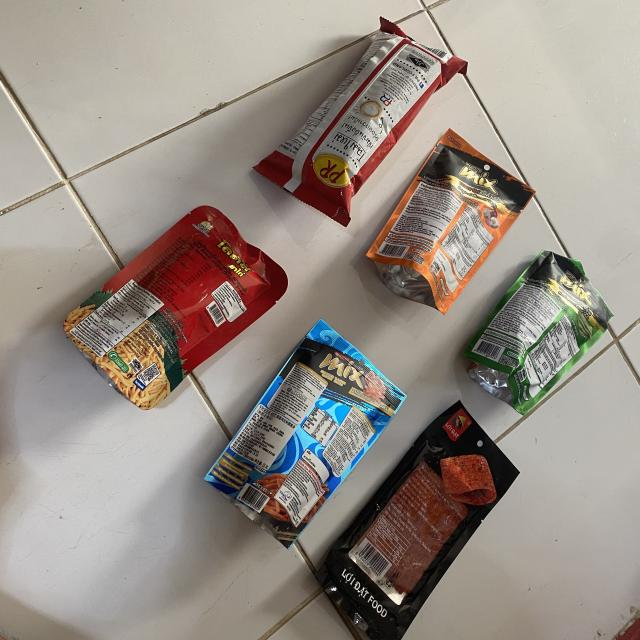plastik: (316, 401, 519, 640), (64, 206, 288, 410), (205, 320, 405, 548), (254, 18, 468, 226), (368, 129, 535, 314), (462, 251, 612, 414)
